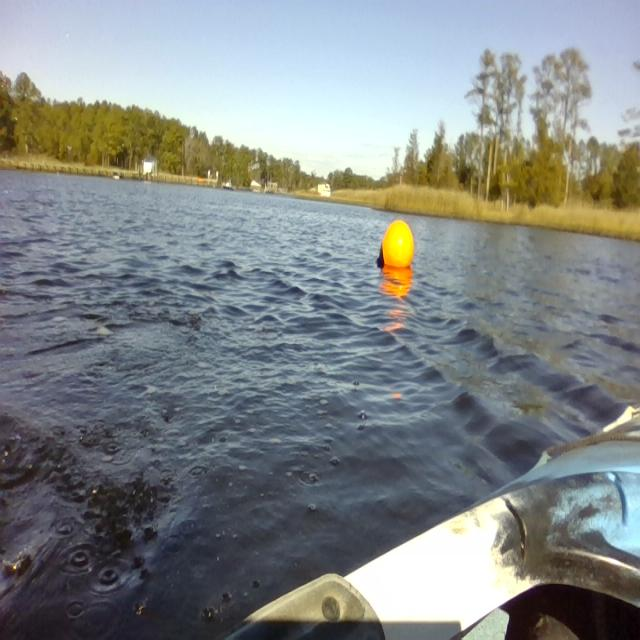Buoy: (368, 213, 419, 280)
